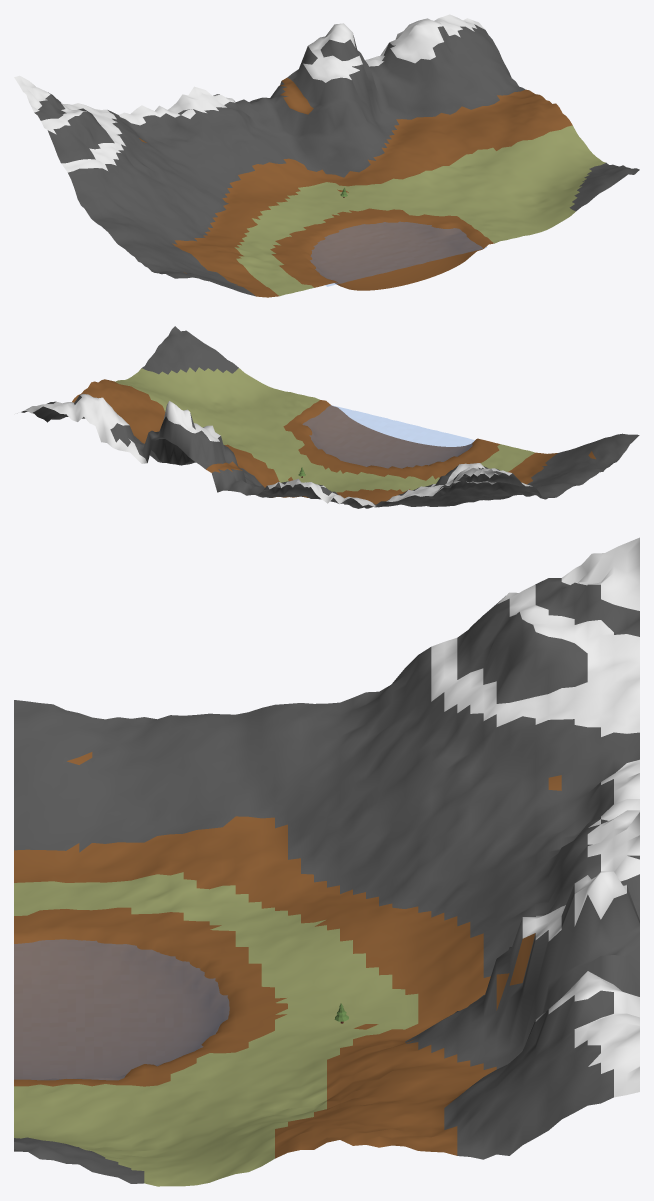
Rendered from terrain.glb.
3 renders of one model, top to bottom at view 1: azimuth 30°, elevation 25°; view 2: azimuth 150°, elevation 25°; view 3: azimuth 270°, elevation 25°, orthographic. The views are drawn at different scales.
Visible parts, largest first — view 1: Terrain, Water; view 2: Terrain, Water; view 3: Terrain, Water.
Part boxes in pixels (x1=…): Terrain: x1=14, y1=14, x2=639, y2=297; Water: x1=310, y1=222, x2=486, y2=286; Terrain: x1=17, y1=326, x2=639, y2=508; Water: x1=303, y1=405, x2=474, y2=468; Terrain: x1=14, y1=537, x2=639, y2=1186; Water: x1=14, y1=939, x2=229, y2=1079.
Bounding box in the file's own units: 40 × 12.12 × 24.
